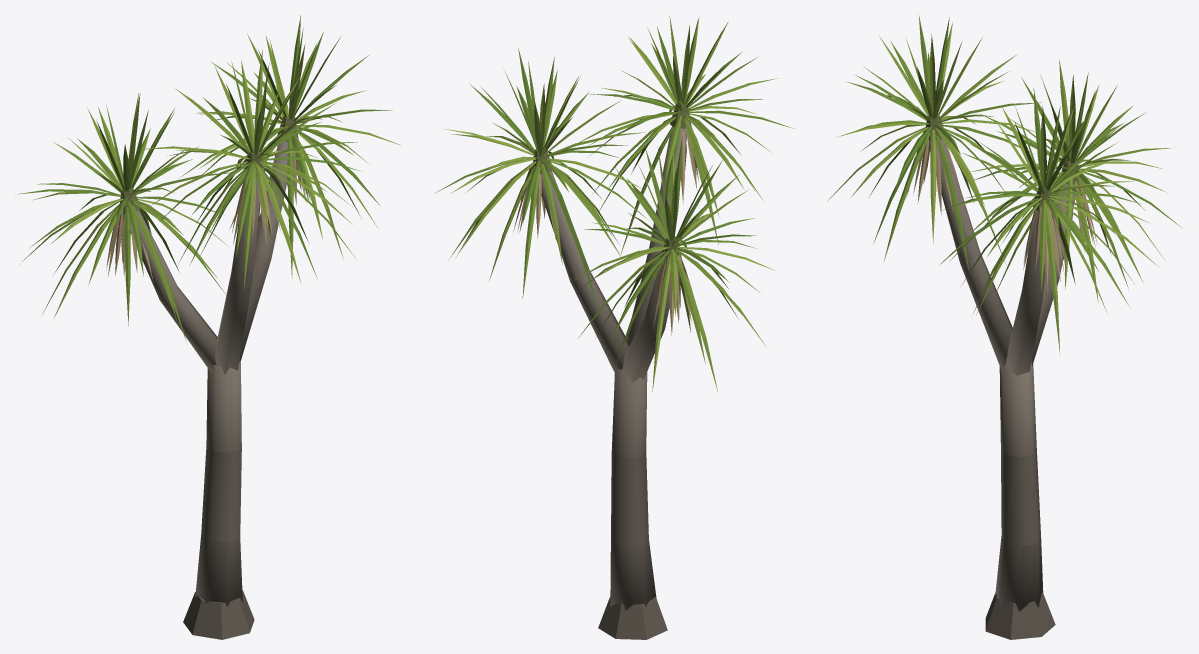
File: cabbage_tree.glb
3 views of the same model, side by side, from view 1: azimuth 30°, elevation 25°; view 2: azimuth 150°, elevation 25°; view 3: azimuth 270°, elevation 25° (orthographic). The views are drawn at different scales.
Parts seen in each view (by area): view 1: cabbage_tree; view 2: cabbage_tree; view 3: cabbage_tree.
Boxes of the visible parts, x1,y1,x2,y2 form: cabbage_tree: (15,15,400,639); cabbage_tree: (436,16,794,639); cabbage_tree: (827,14,1181,639).
Bounding box in the file's own units: 3.08 × 5.37 × 2.93.
